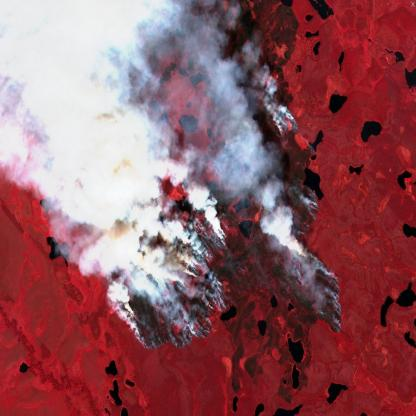fire: (112, 108, 350, 358)
